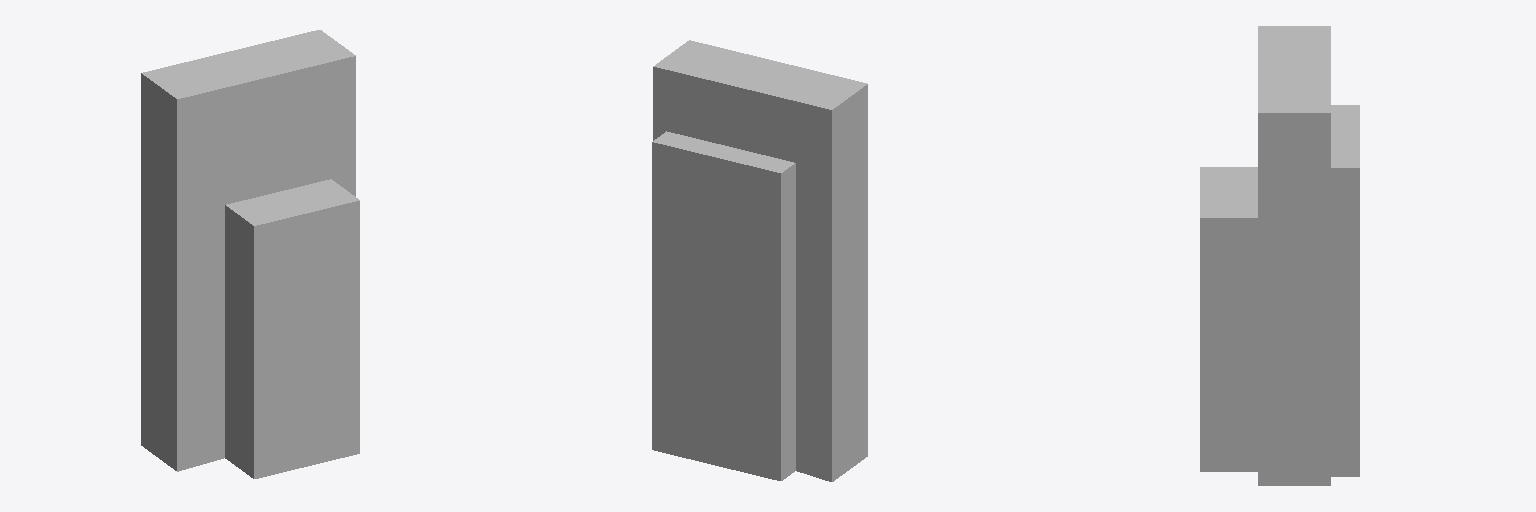
The model's file is skyscraper_towers.obj.
The picture shows the model from 3 angles: view 1: azimuth 30°, elevation 25°; view 2: azimuth 150°, elevation 25°; view 3: azimuth 270°, elevation 25°; orthographic projection.
Bounding box in the file's own units: 27.03 × 53.74 × 20.85.